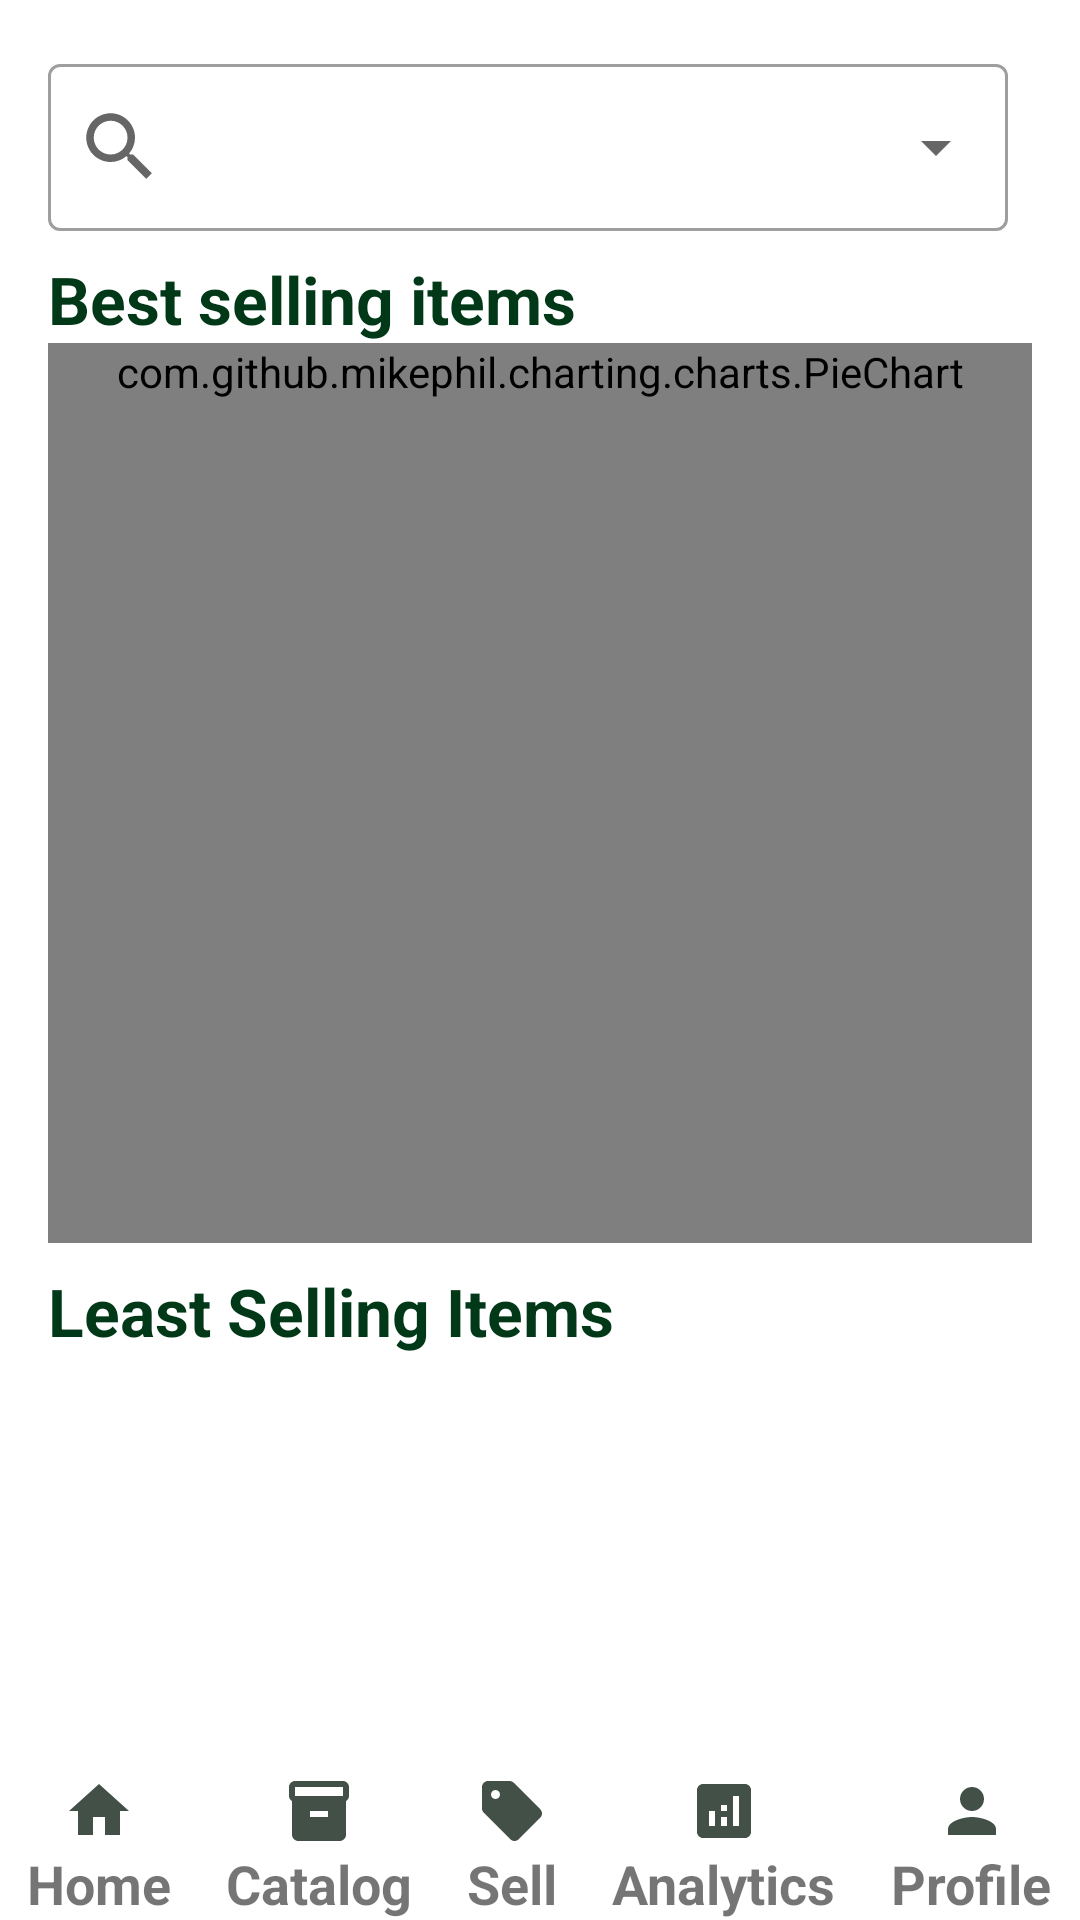

Named icons in this screenshot (1080×1920) and their bounding boxes, (x1, y1, x2, y2):
inventory: (289, 1781, 349, 1841)
